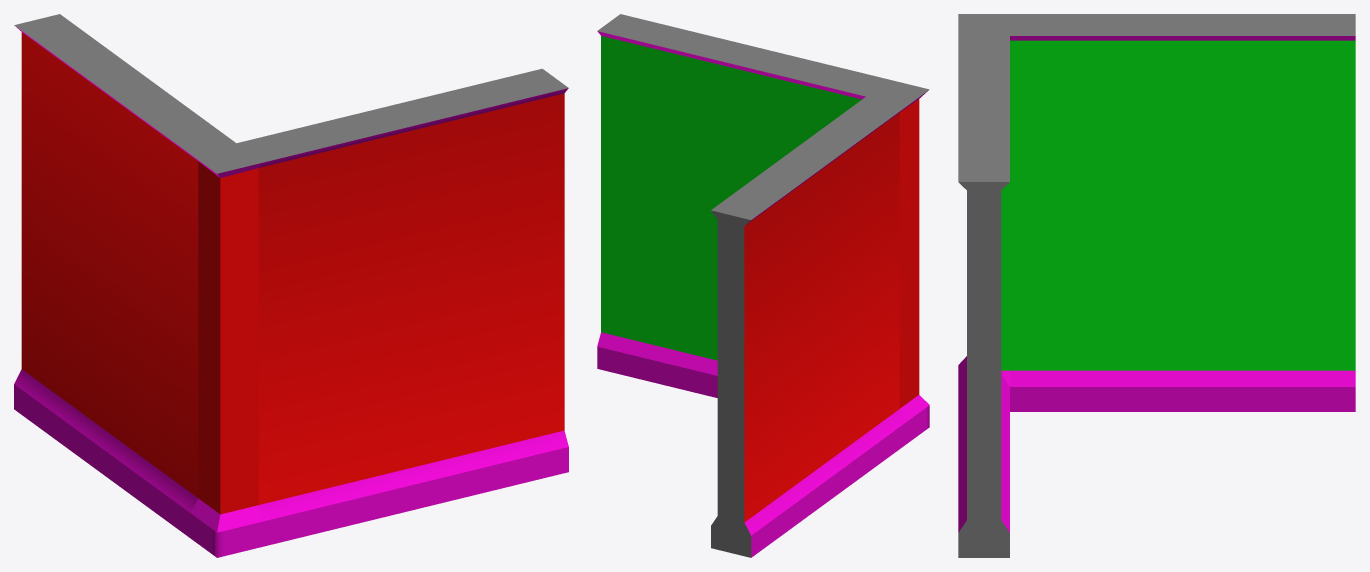
The model's file is OutsideWallFinalMaybe.FBX.
3 renders of one model, left to right at view 1: azimuth 30°, elevation 25°; view 2: azimuth 150°, elevation 25°; view 3: azimuth 270°, elevation 25°, orthographic. The views are drawn at different scales.
Parts seen in each view (by area): view 1: ModularWall; view 2: ModularWall; view 3: ModularWall.
Boxes of the visible parts, x1,y1,x2,y2 form: ModularWall: [14, 14, 568, 557]; ModularWall: [597, 14, 929, 557]; ModularWall: [958, 14, 1355, 557].
Bounding box in the file's own units: 115 × 120 × 115.
